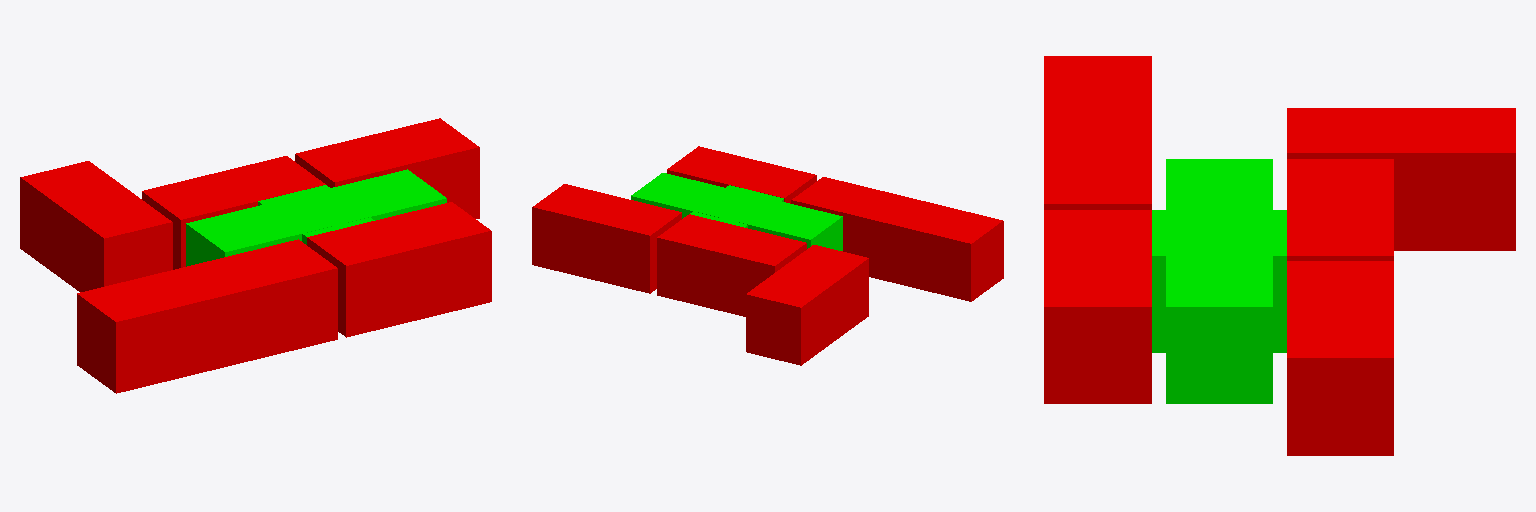
The robot description file, URDF, robot "grid_world":
<!-- created with Phobos 1.0.1 "Capricious Choutengan" --><robot name="grid_world">

    <link name="base_link">
      <inertial>
        <origin xyz="0 0 0" rpy="0 0 0"/>
        <mass value="0.001"/>
        <inertia ixx="0.001" ixy="0" ixz="0" iyy="0.001" iyz="0" izz="0.001"/>
      </inertial>
    </link>

    <link name="goal">
      <inertial>
        <origin xyz="0 0 0" rpy="0 0 0"/>
        <mass value="0.001"/>
        <inertia ixx="0.001" ixy="0" ixz="0" iyy="0.001" iyz="0" izz="0.001"/>
      </inertial>
      <visual name="visual_box_0_link_0.001">
        <origin xyz="0 0 0" rpy="0 0 0"/>
        <geometry>
          <box size="1.43778 0.44277 0.44277"/>
        </geometry>
        <material name="green_translucent"/>
      </visual>
    </link>

    <link name="link_0_joint_0">
      <inertial>
        <origin xyz="0 0 0" rpy="0 0 0"/>
        <mass value="0.001"/>
        <inertia ixx="0.001" ixy="0" ixz="0" iyy="0.001" iyz="0" izz="0.001"/>
      </inertial>
      <visual name="visual_box_0_link_0">
        <origin xyz="0 0 0" rpy="0 0 0"/>
        <geometry>
          <box size="1.445 0.445 0.445"/>
        </geometry>
        <material name="green"/>
      </visual>
      <collision name="collision_box_0_link_0">
        <origin xyz="0 0 0" rpy="0 0 0"/>
        <geometry>
          <box size="1.445 0.445 0.445"/>
        </geometry>
      </collision>
    </link>

    <link name="link_1_joint_0">
      <inertial>
        <origin xyz="0 0 0" rpy="0 0 0"/>
        <mass value="0.001"/>
        <inertia ixx="0.001" ixy="0" ixz="0" iyy="0.001" iyz="0" izz="0.001"/>
      </inertial>
      <visual name="visual_box_2_link_1">
        <origin xyz="0 0 0" rpy="0 0 0"/>
        <geometry>
          <box size="0.945 0.445 0.445"/>
        </geometry>
        <material name="red"/>
      </visual>
      <collision name="collision_box_2_link_1">
        <origin xyz="0 0 0" rpy="0 0 0"/>
        <geometry>
          <box size="0.945 0.445 0.445"/>
        </geometry>
      </collision>
    </link>

    <link name="link_2_joint_0">
      <inertial>
        <origin xyz="0 0 0" rpy="0 0 0"/>
        <mass value="0.001"/>
        <inertia ixx="0.001" ixy="0" ixz="0" iyy="0.001" iyz="0" izz="0.001"/>
      </inertial>
      <visual name="visual_box_3_link_2">
        <origin xyz="0 0 0" rpy="0 0 0"/>
        <geometry>
          <box size="1.445 0.445 0.445"/>
        </geometry>
        <material name="red"/>
      </visual>
      <collision name="collision_box_3_link_2">
        <origin xyz="0 0 0" rpy="0 0 0"/>
        <geometry>
          <box size="1.445 0.445 0.445"/>
        </geometry>
      </collision>
    </link>

    <link name="link_3_joint_0">
      <inertial>
        <origin xyz="0 0 0" rpy="0 0 0"/>
        <mass value="0.001"/>
        <inertia ixx="0.001" ixy="0" ixz="0" iyy="0.001" iyz="0" izz="0.001"/>
      </inertial>
      <visual name="visual_box_5_link_3">
        <origin xyz="0 0 0" rpy="0 0 0"/>
        <geometry>
          <box size="0.945 0.445 0.445"/>
        </geometry>
        <material name="red"/>
      </visual>
      <collision name="collision_box_5_link_3">
        <origin xyz="0 0 0" rpy="0 0 0"/>
        <geometry>
          <box size="0.945 0.445 0.445"/>
        </geometry>
      </collision>
    </link>

    <link name="link_4_joint_0">
      <inertial>
        <origin xyz="0 0 0" rpy="0 0 0"/>
        <mass value="0.001"/>
        <inertia ixx="0.001" ixy="0" ixz="0" iyy="0.001" iyz="0" izz="0.001"/>
      </inertial>
      <visual name="visual_box_6_link_4">
        <origin xyz="0 0 0" rpy="0 0 0"/>
        <geometry>
          <box size="0.945 0.445 0.445"/>
        </geometry>
        <material name="red"/>
      </visual>
      <collision name="collision_box_6_link_4">
        <origin xyz="0 0 0" rpy="0 0 0"/>
        <geometry>
          <box size="0.945 0.445 0.445"/>
        </geometry>
      </collision>
    </link>

    <link name="link_5_joint_0">
      <inertial>
        <origin xyz="0 0 0" rpy="0 0 0"/>
        <mass value="0.001"/>
        <inertia ixx="0.001" ixy="0" ixz="0" iyy="0.001" iyz="0" izz="0.001"/>
      </inertial>
      <visual name="visual_box_7_link_5">
        <origin xyz="0 0 0" rpy="0 0 0"/>
        <geometry>
          <box size="0.445 0.945 0.445"/>
        </geometry>
        <material name="red"/>
      </visual>
      <collision name="collision_box_7_link_5">
        <origin xyz="0 0 0" rpy="0 0 0"/>
        <geometry>
          <box size="0.445 0.945 0.445"/>
        </geometry>
      </collision>
    </link>

    <joint name="goal" type="fixed">
      <origin xyz="-2.75 0.25 0.225" rpy="0 0 1.5708"/>
      <parent link="base_link"/>
      <child link="goal"/>
      <limit effort="0" velocity="0"/>
    </joint>

    <joint name="link_0_joint_0" type="revolute">
      <origin xyz="-2.75 0.25 0.225" rpy="0 0 0"/>
      <parent link="base_link"/>
      <child link="link_0_joint_0"/>
      <axis xyz="0 0 1.0"/>
      <limit lower="0" upper="1.5708" effort="0" velocity="0"/>
    </joint>

    <joint name="link_1_joint_0" type="prismatic">
      <origin xyz="-3.0 0.75 0.225" rpy="0 0 0"/>
      <parent link="base_link"/>
      <child link="link_1_joint_0"/>
      <axis xyz="1.0 0 0"/>
      <limit lower="-0.5" upper="0.0" effort="0" velocity="0"/>
    </joint>

    <joint name="link_2_joint_0" type="revolute">
      <origin xyz="-3.75 -0.25 0.225" rpy="0 0 0"/>
      <parent link="base_link"/>
      <child link="link_2_joint_0"/>
      <axis xyz="0 0 1.0"/>
      <limit lower="-1.5708" upper="0" effort="0" velocity="0"/>
    </joint>

    <joint name="link_3_joint_0" type="prismatic">
      <origin xyz="-2.0 0.75 0.225" rpy="0 0 0"/>
      <parent link="base_link"/>
      <child link="link_3_joint_0"/>
      <axis xyz="1.0 0 0"/>
      <limit lower="0" upper="0.5" effort="0" velocity="0"/>
    </joint>

    <joint name="link_4_joint_0" type="prismatic">
      <origin xyz="-2.5 -0.25 0.225" rpy="0 0 0"/>
      <parent link="base_link"/>
      <child link="link_4_joint_0"/>
      <axis xyz="1.0 0 0"/>
      <limit lower="0" upper="0.5" effort="0" velocity="0"/>
    </joint>

    <joint name="link_5_joint_0" type="prismatic">
      <origin xyz="-3.75 1.0 0.225" rpy="0 0 0"/>
      <parent link="base_link"/>
      <child link="link_5_joint_0"/>
      <axis xyz="0 1.0 0"/>
      <limit lower="0" upper="0.5" effort="0" velocity="0"/>
    </joint>


    <material name="gray">
      <color rgba="0.5 0.5 0.5 1.0"/>
    </material>

    <material name="green">
      <color rgba="0 1.0 0 1.0"/>
    </material>

    <material name="green_translucent">
      <color rgba="0 1.0 0 0.25"/>
    </material>

    <material name="red">
      <color rgba="1.0 0 0 1.0"/>
    </material>

  </robot>

--- What the picture shows (computed from the rendered views, not written in the file) ---
Views: 3 orthographic renders of the robot side by side, from view 1: azimuth 30°, elevation 25°; view 2: azimuth 150°, elevation 25°; view 3: azimuth 270°, elevation 25°.
Model grid_world with 8 links and 7 joints (2 revolute, 4 prismatic, 1 fixed), rooted at base_link, posed all joints at 0.
Visible links, largest first — view 1: link_2_joint_0, link_4_joint_0, link_5_joint_0, link_0_joint_0, link_3_joint_0, link_1_joint_0, goal; view 2: link_2_joint_0, link_3_joint_0, link_5_joint_0, link_1_joint_0, link_0_joint_0, link_4_joint_0; view 3: link_0_joint_0, link_5_joint_0, link_4_joint_0, link_3_joint_0, link_2_joint_0, link_1_joint_0, goal.
Boxes of the visible links, bbox=[...] form: link_2_joint_0: bbox=[77, 239, 337, 393]; link_4_joint_0: bbox=[307, 202, 491, 337]; link_5_joint_0: bbox=[20, 161, 172, 291]; link_0_joint_0: bbox=[186, 169, 446, 266]; link_3_joint_0: bbox=[295, 118, 479, 218]; link_1_joint_0: bbox=[142, 156, 325, 269]; goal: bbox=[258, 185, 374, 244]; link_2_joint_0: bbox=[791, 177, 1003, 301]; link_3_joint_0: bbox=[532, 184, 681, 293]; link_5_joint_0: bbox=[746, 245, 868, 365]; link_1_joint_0: bbox=[657, 214, 806, 316]; link_0_joint_0: bbox=[631, 173, 842, 250]; link_4_joint_0: bbox=[667, 146, 816, 203]; link_0_joint_0: bbox=[1166, 159, 1272, 403]; link_5_joint_0: bbox=[1287, 108, 1515, 250]; link_4_joint_0: bbox=[1044, 210, 1151, 403]; link_3_joint_0: bbox=[1287, 261, 1393, 455]; link_2_joint_0: bbox=[1044, 56, 1151, 209]; link_1_joint_0: bbox=[1287, 159, 1393, 260]; goal: bbox=[1152, 210, 1286, 352].
Bounding box of the posed robot: 2.94 × 1.95 × 0.445 m (x, y, z).
Geometry: primitives only (box / cylinder / sphere), no mesh files.